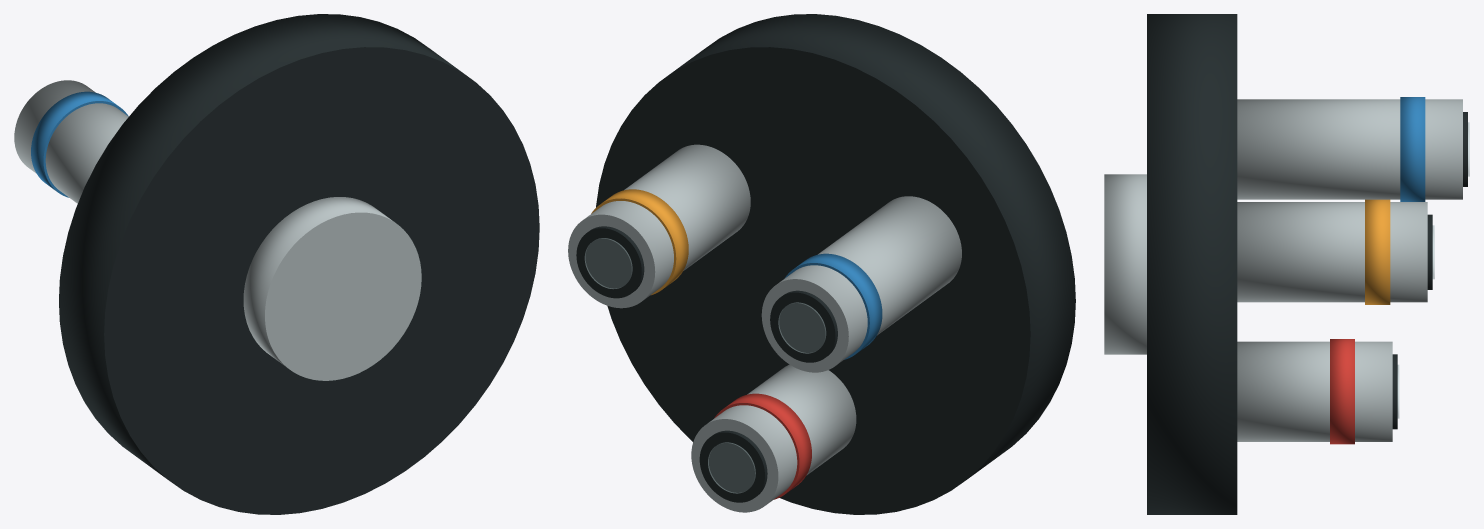
File: objective_turret.glb
3 views of the same model, side by side, from view 1: azimuth 30°, elevation 25°; view 2: azimuth 150°, elevation 25°; view 3: azimuth 270°, elevation 25° (orthographic).
Parts seen in each view (by area): view 1: turret_disk, turret_hub, objective_barrel.002, objective_band.002; view 2: turret_disk, objective_barrel.002, objective_barrel.001, objective_barrel, objective_tip.001, objective_tip, objective_tip.002, objective_band.002, objective_band, objective_band.001, objective_lens, objective_lens.001 (+1 smaller); view 3: turret_disk, objective_barrel.002, objective_barrel.001, objective_barrel, turret_hub, objective_band.001, objective_band.002, objective_band, objective_tip, objective_tip.001.
Part boxes in pixels (x1=…): turret_disk: x1=59, y1=14, x2=539, y2=514; turret_hub: x1=243, y1=197, x2=421, y2=380; objective_barrel.002: x1=14, y1=80, x2=128, y2=203; objective_band.002: x1=31, y1=91, x2=128, y2=197; turret_disk: x1=596, y1=14, x2=1075, y2=514; objective_barrel.002: x1=761, y1=196, x2=961, y2=372; objective_barrel.001: x1=568, y1=144, x2=750, y2=308; objective_barrel: x1=691, y1=364, x2=856, y2=512; objective_tip.001: x1=576, y1=226, x2=644, y2=298; objective_tip: x1=699, y1=430, x2=767, y2=502; objective_tip.002: x1=770, y1=290, x2=837, y2=362; objective_band.002: x1=784, y1=253, x2=882, y2=359; objective_band: x1=714, y1=393, x2=811, y2=499; objective_band.001: x1=591, y1=189, x2=688, y2=295; objective_lens: x1=708, y1=442, x2=755, y2=493; objective_lens.001: x1=584, y1=238, x2=632, y2=288; turret_disk: x1=1147, y1=14, x2=1237, y2=514; objective_barrel.002: x1=1237, y1=99, x2=1462, y2=199; objective_barrel.001: x1=1237, y1=202, x2=1427, y2=302; objective_barrel: x1=1237, y1=341, x2=1392, y2=441; turret_hub: x1=1104, y1=174, x2=1146, y2=354; objective_band.001: x1=1365, y1=199, x2=1390, y2=304; objective_band.002: x1=1400, y1=97, x2=1425, y2=201; objective_band: x1=1330, y1=339, x2=1354, y2=444; objective_tip: x1=1392, y1=354, x2=1397, y2=429; objective_tip.001: x1=1427, y1=214, x2=1432, y2=289.
Size of the model in its own units: 0.1 by 0.1 by 0.0729.
